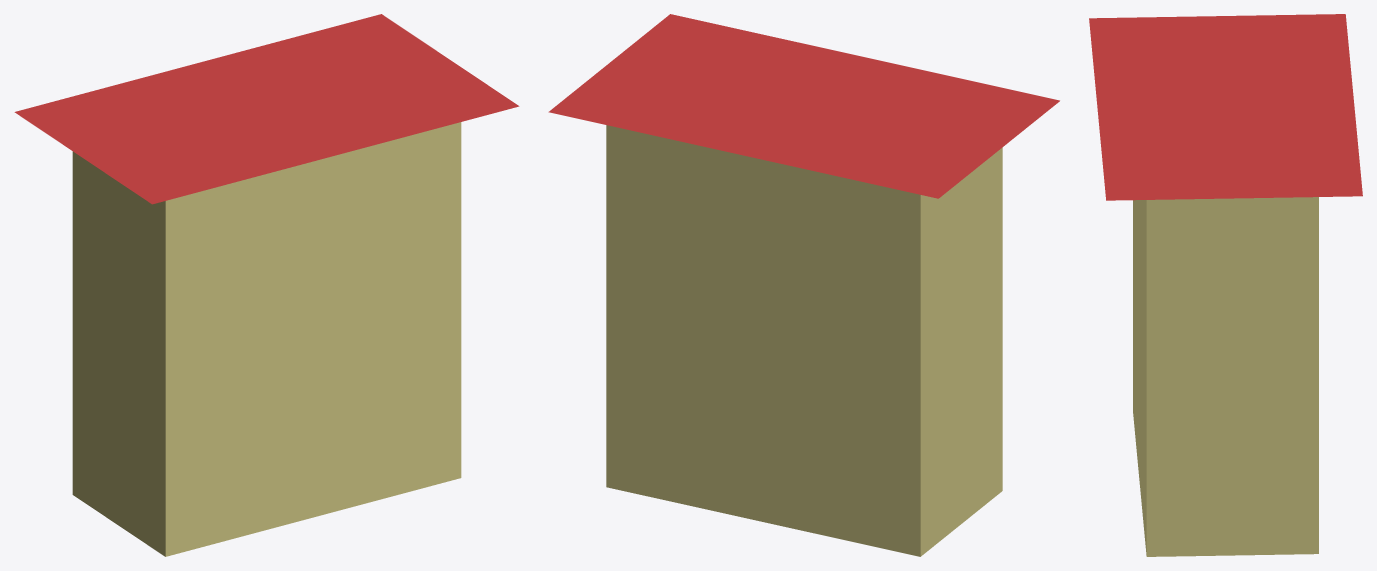
3 renders of one model, left to right at view 1: azimuth 30°, elevation 25°; view 2: azimuth 150°, elevation 25°; view 3: azimuth 270°, elevation 25°, orthographic. The views are drawn at different scales.
Bounding box in the file's own units: 5.24 × 3.25 × 4.91.
